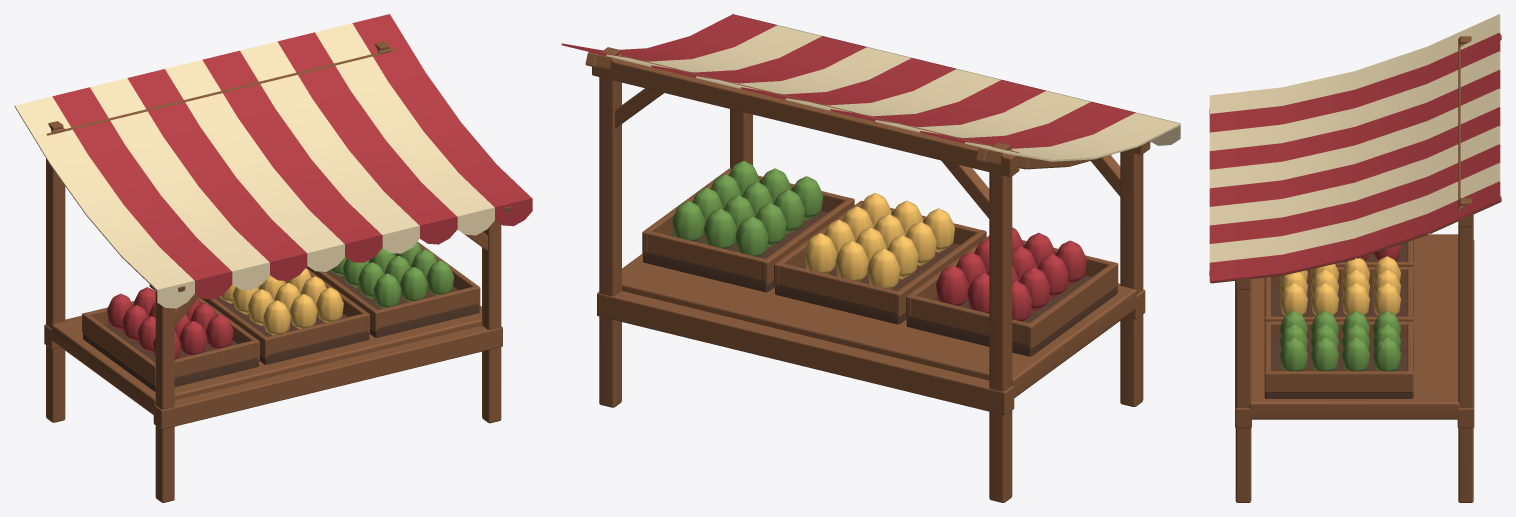
File: ashwick-goods-market-stall.meshopt.glb
3 views of the same model, side by side, from view 1: azimuth 30°, elevation 25°; view 2: azimuth 150°, elevation 25°; view 3: azimuth 270°, elevation 25° (orthographic). The views are drawn at different scales.
Visible parts, largest first — view 1: Striped canvas.002, Striped canvas.003, Stall posts.001, Counter apron.001, Counter.001, Tray side lips.001, Display trays.001, Market stock.004, Market stock.005, Tray end lips.001, Market stock.003, Sewn valance.002 (+2 smaller); view 2: Stall posts.001, Striped canvas.002, Striped canvas.003, Counter.001, Counter apron.001, Awning bearer.001, Market stock.004, Market stock.005, Tray side lips.001, Market stock.003, Tray end lips.001, Display trays.001 (+2 smaller); view 3: Striped canvas.003, Striped canvas.002, Counter.001, Stall posts.001, Market stock.005, Market stock.004, Tray end lips.001, Display trays.001, Tray side lips.001, Counter apron.001, Awning bearer.001, Canvas side ribs.001.
Part boxes in pixels (<box>): Striped canvas.002: <box>14,23,494,290</box>; Striped canvas.003: <box>52,14,531,280</box>; Stall posts.001: <box>46,48,501,502</box>; Counter apron.001: <box>44,315,502,429</box>; Counter.001: <box>51,306,482,414</box>; Tray side lips.001: <box>86,286,476,377</box>; Display trays.001: <box>83,270,479,391</box>; Market stock.004: <box>219,268,343,335</box>; Market stock.005: <box>330,242,454,308</box>; Tray end lips.001: <box>82,241,480,385</box>; Market stock.003: <box>107,287,233,359</box>; Sewn valance.002: <box>157,207,494,308</box>; Stall posts.001: <box>599,53,1143,502</box>; Striped canvas.002: <box>606,25,1180,161</box>; Striped canvas.003: <box>561,14,1135,148</box>; Counter.001: <box>622,254,1136,397</box>; Counter apron.001: <box>597,283,1145,415</box>; Awning bearer.001: <box>592,50,1150,177</box>; Market stock.004: <box>804,193,954,289</box>; Market stock.005: <box>672,160,823,257</box>; Tray side lips.001: <box>646,169,1114,343</box>; Market stock.003: <box>936,227,1086,321</box>; Tray end lips.001: <box>642,168,1118,349</box>; Display trays.001: <box>643,211,1117,356</box>; Striped canvas.003: <box>1209,32,1500,282</box>; Striped canvas.002: <box>1209,14,1500,262</box>; Counter.001: <box>1249,234,1459,419</box>; Stall posts.001: <box>1235,39,1473,502</box>; Market stock.005: <box>1280,311,1400,371</box>; Market stock.004: <box>1280,256,1400,315</box>; Tray end lips.001: <box>1264,262,1413,392</box>; Display trays.001: <box>1264,240,1413,398</box>; Tray side lips.001: <box>1265,240,1413,371</box>; Counter apron.001: <box>1235,240,1474,428</box>; Awning bearer.001: <box>1235,38,1473,289</box>; Canvas side ribs.001: <box>1209,34,1501,283</box>.
Bounding box in the file's own units: 3.4 × 2.67 × 2.26.
